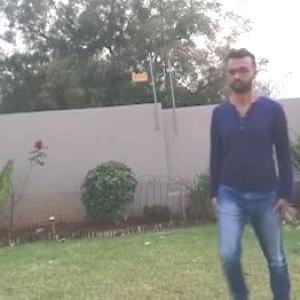follow: (204, 51, 288, 299)
